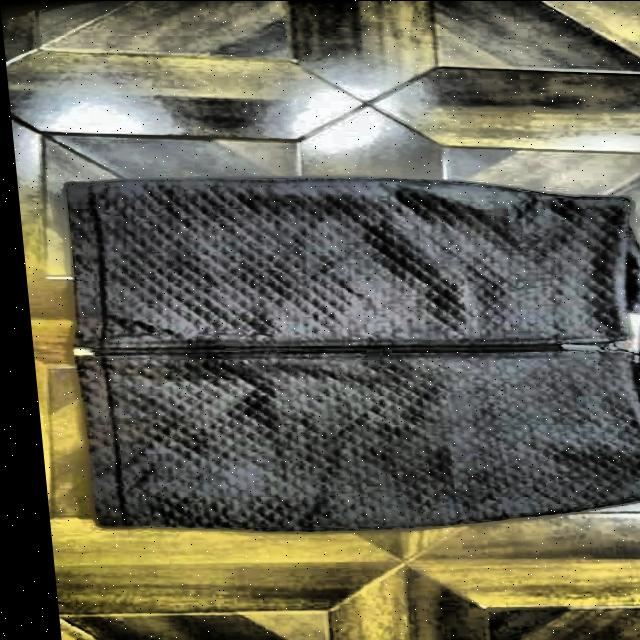clothes: (60, 175, 640, 530)
